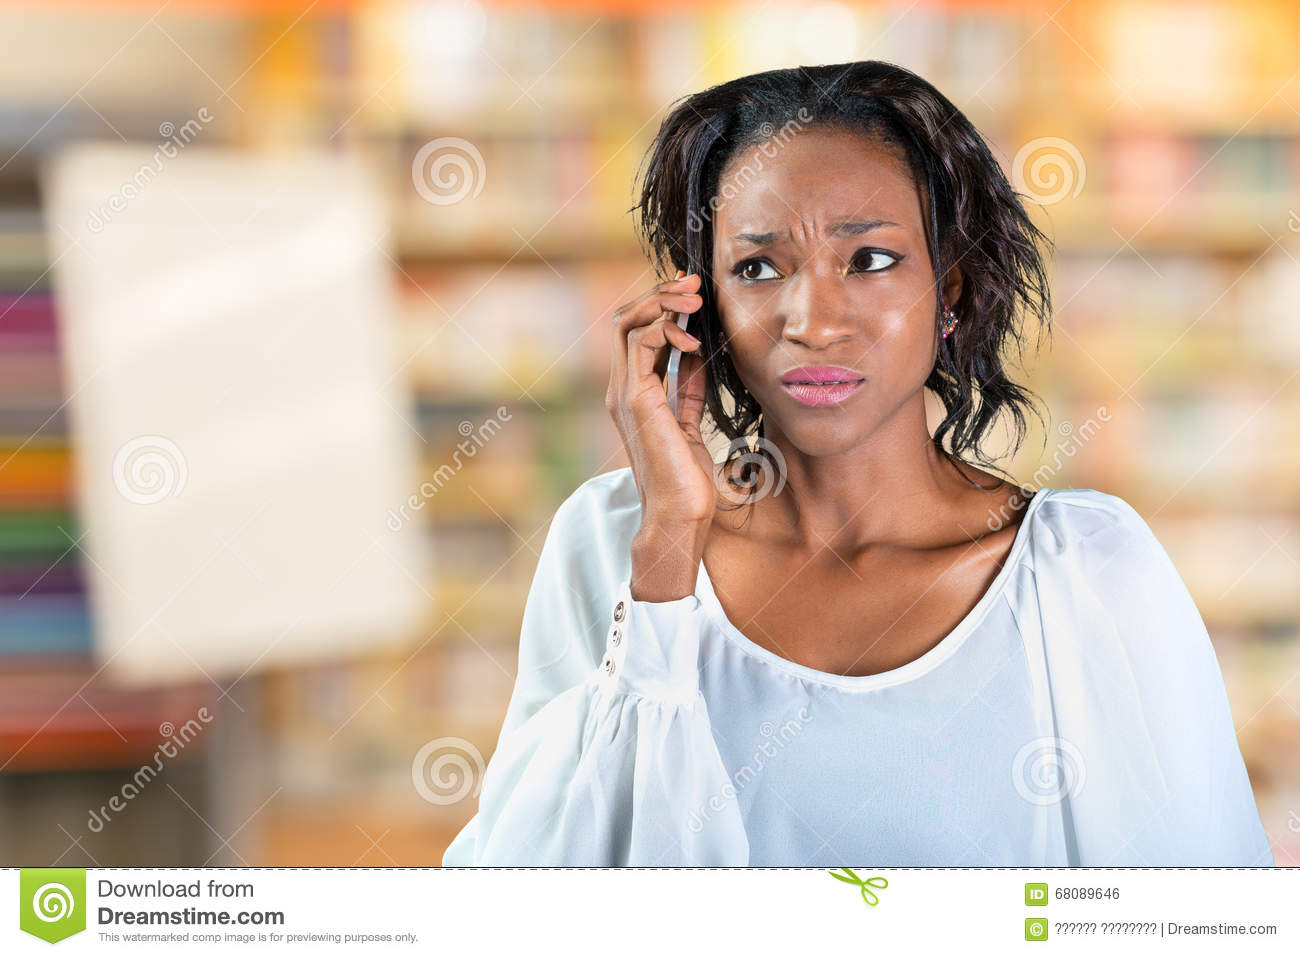phone: (668, 273, 698, 421)
talk: (604, 205, 915, 574)
